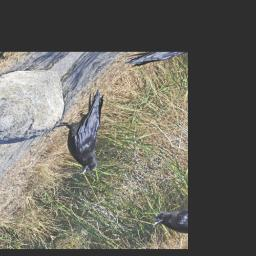Crow: (32, 83, 145, 180)
